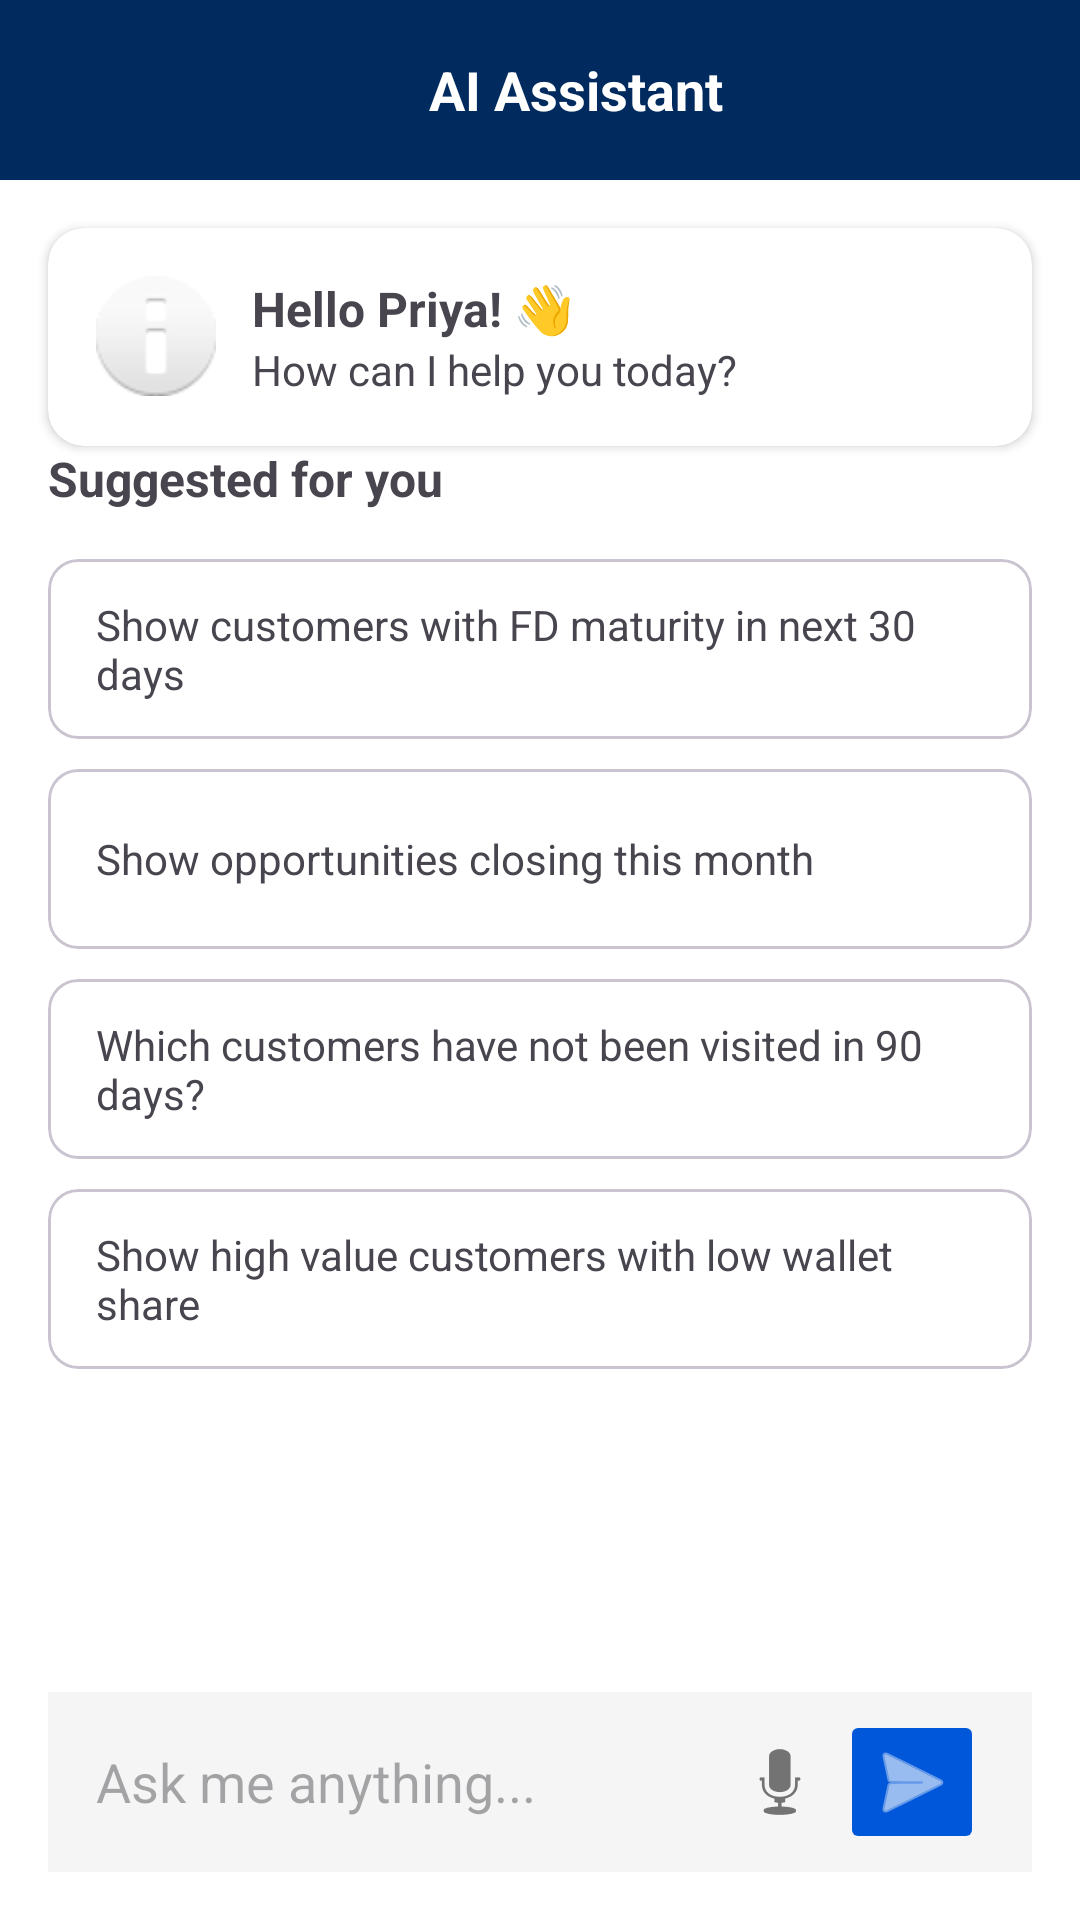

Icons on this 1080px×1920px Android screen, each with its box as (x1, y1, x2, y2):
info: (96, 298, 216, 396)
send: (852, 1728, 972, 1836)
speak now: (759, 1749, 801, 1815)
